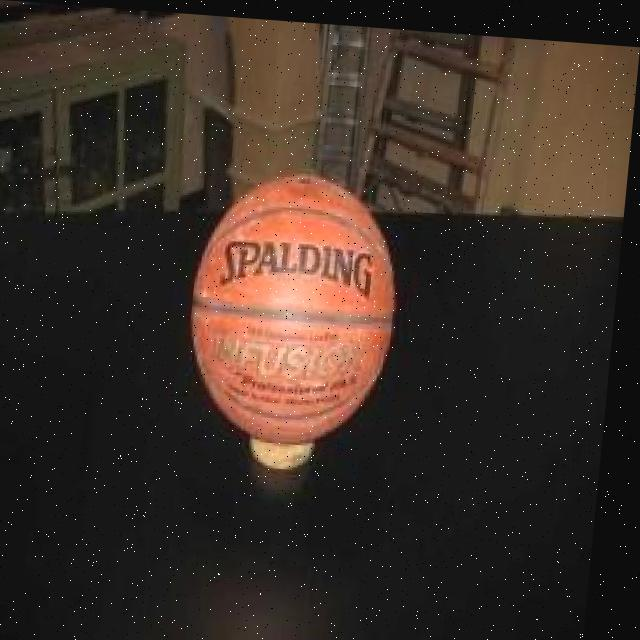Basketball: (177, 170, 407, 451)
